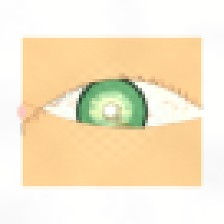corneal_ulcer: (88, 91, 133, 128)
